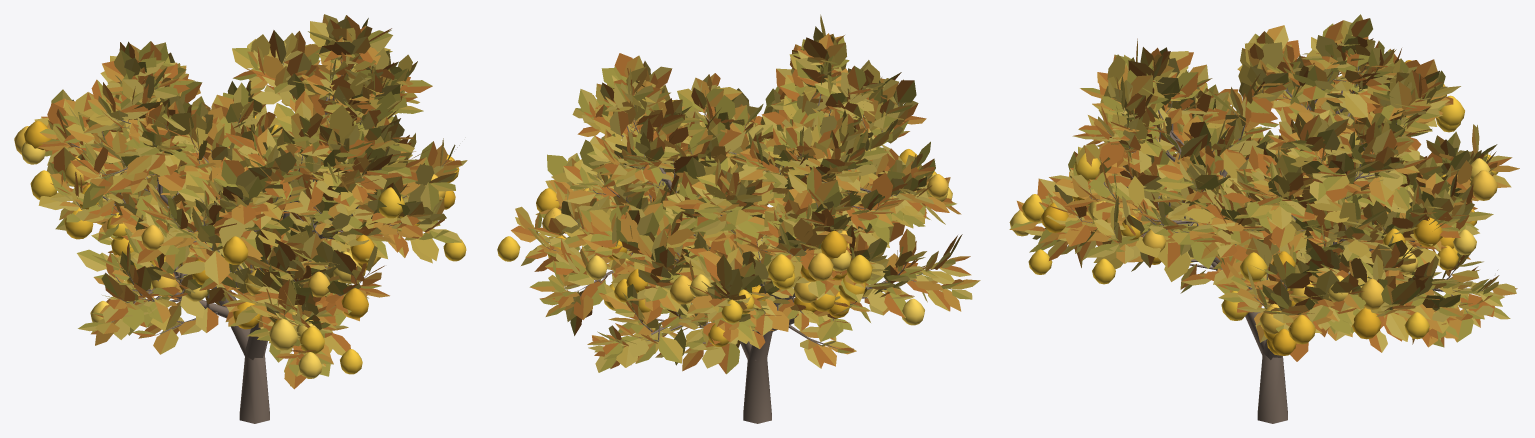
Rendered from cognassier_champion_automne.glb.
The picture shows the model from 3 angles, left to right: view 1: azimuth 30°, elevation 25°; view 2: azimuth 150°, elevation 25°; view 3: azimuth 270°, elevation 25°; orthographic projection. The views are drawn at different scales.
Visible parts, largest first — view 1: Cognassier_Feuillage, Cognassier_Coings, Cognassier_Tronc; view 2: Cognassier_Feuillage, Cognassier_Coings, Cognassier_Tronc; view 3: Cognassier_Feuillage, Cognassier_Coings, Cognassier_Tronc.
Part boxes in pixels (box(x1,y1,x2,y2)): Cognassier_Feuillage: box(34, 14, 467, 389); Cognassier_Coings: box(14, 115, 466, 378); Cognassier_Tronc: box(68, 58, 447, 423); Cognassier_Feuillage: box(511, 14, 980, 374); Cognassier_Coings: box(497, 149, 952, 346); Cognassier_Tronc: box(535, 65, 951, 423); Cognassier_Feuillage: box(1009, 14, 1519, 361); Cognassier_Coings: box(1009, 60, 1498, 355); Cognassier_Tronc: box(1041, 56, 1488, 423).
Size of the model in its own units: 3.25 by 2.7 by 3.41.
